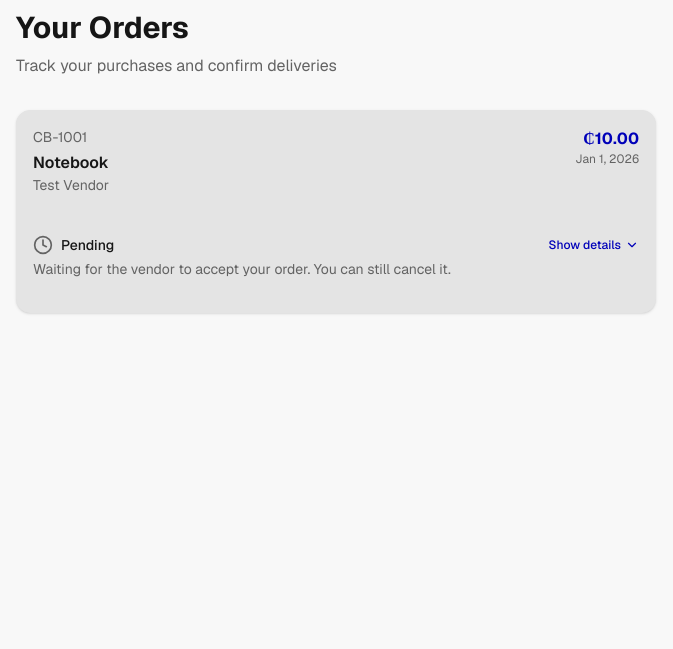
Test: OrdersPage cancellation › offers cancellation for a pending order
Click the heading "Notebook" at (71, 162), box [33,152,109,173]
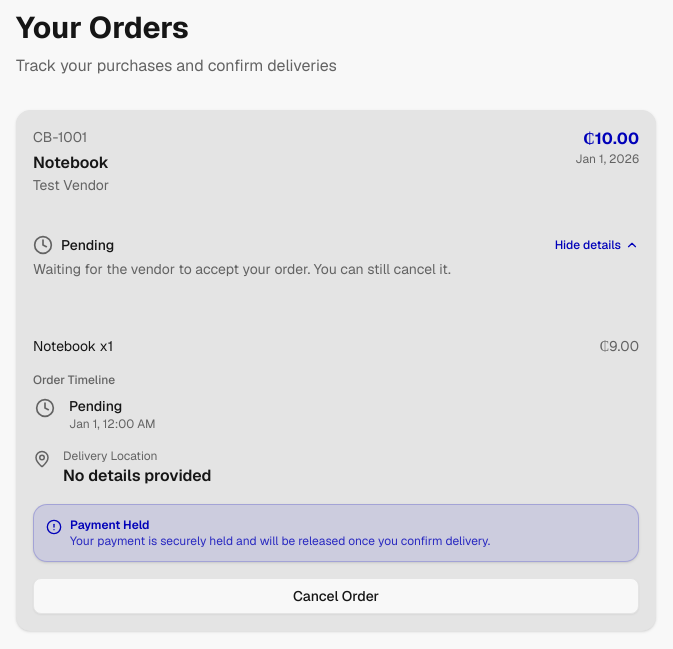
Now the button "Cancel Order" is shown, box [33,578,639,614]
